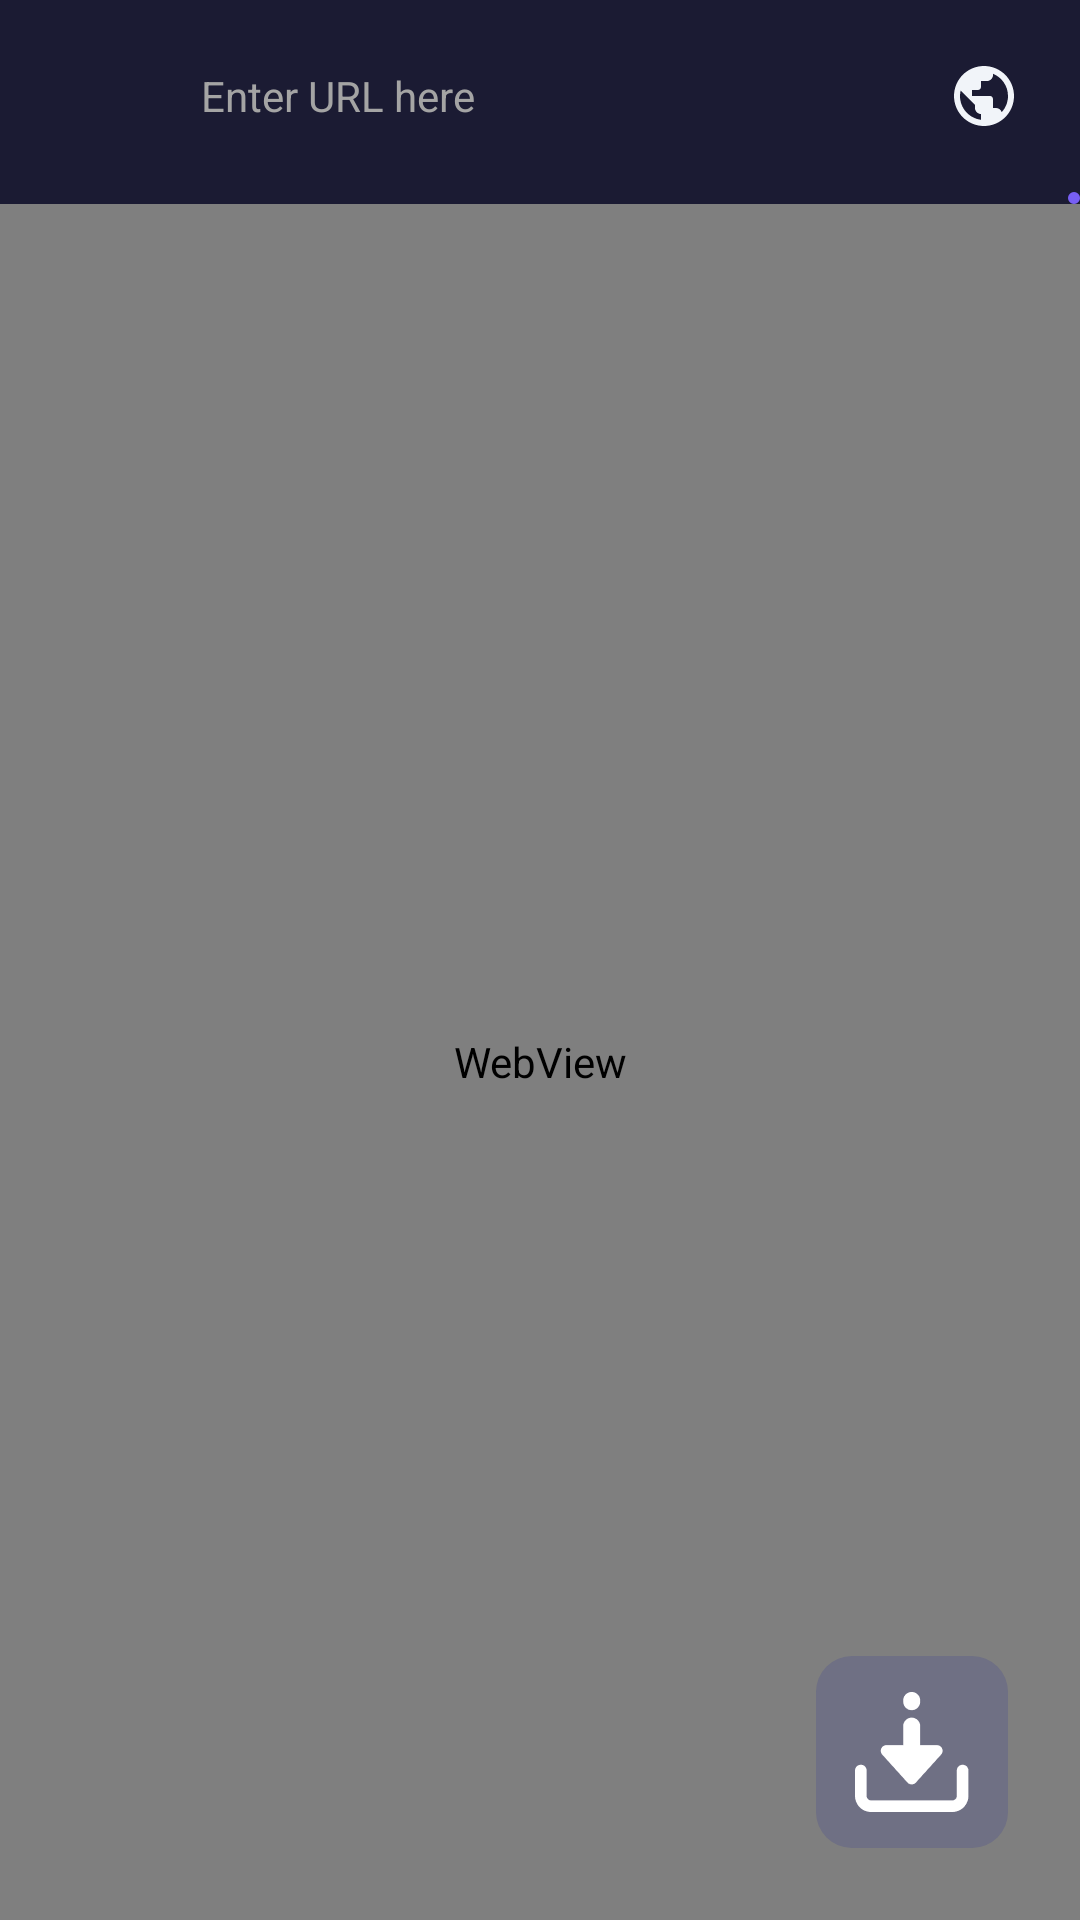

Where to tap for icons on this 1080px x 1920px app screen, as point (x, y):
browser: point (984, 96)
download: point (912, 1752)
